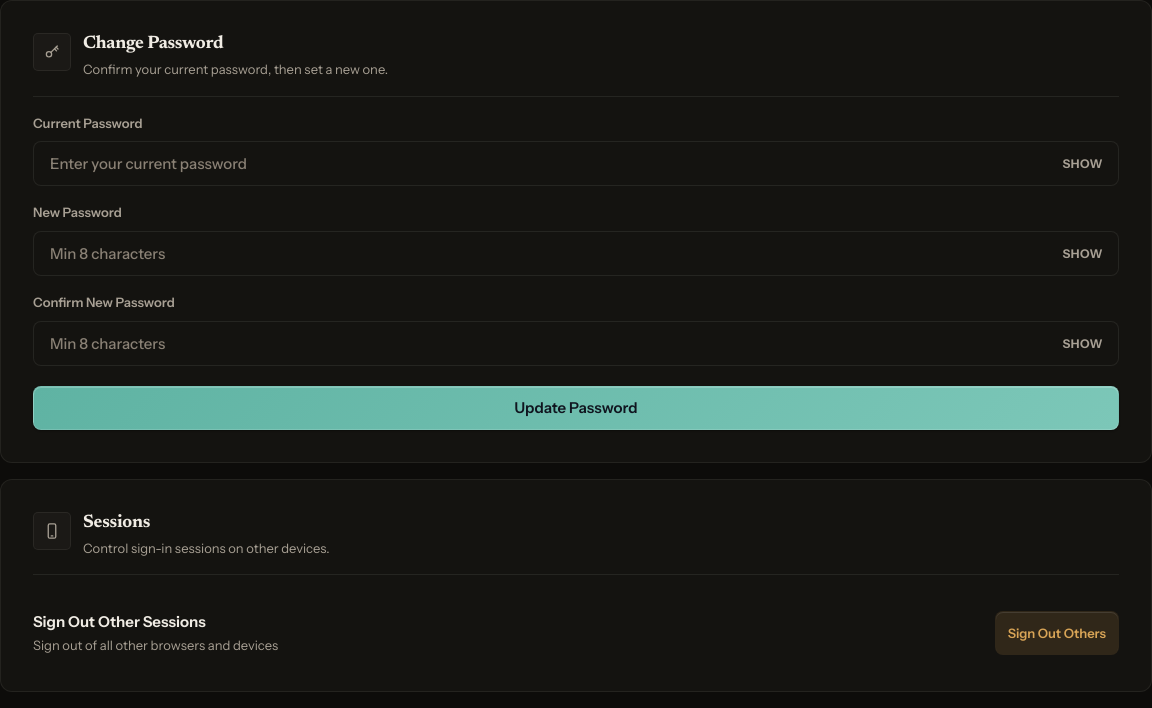
Test case: SecurityTab › rejects a mismatched confirmation
In the password field labelled "Current Password": (576, 164) [33,141,1119,186], type "current-pw"
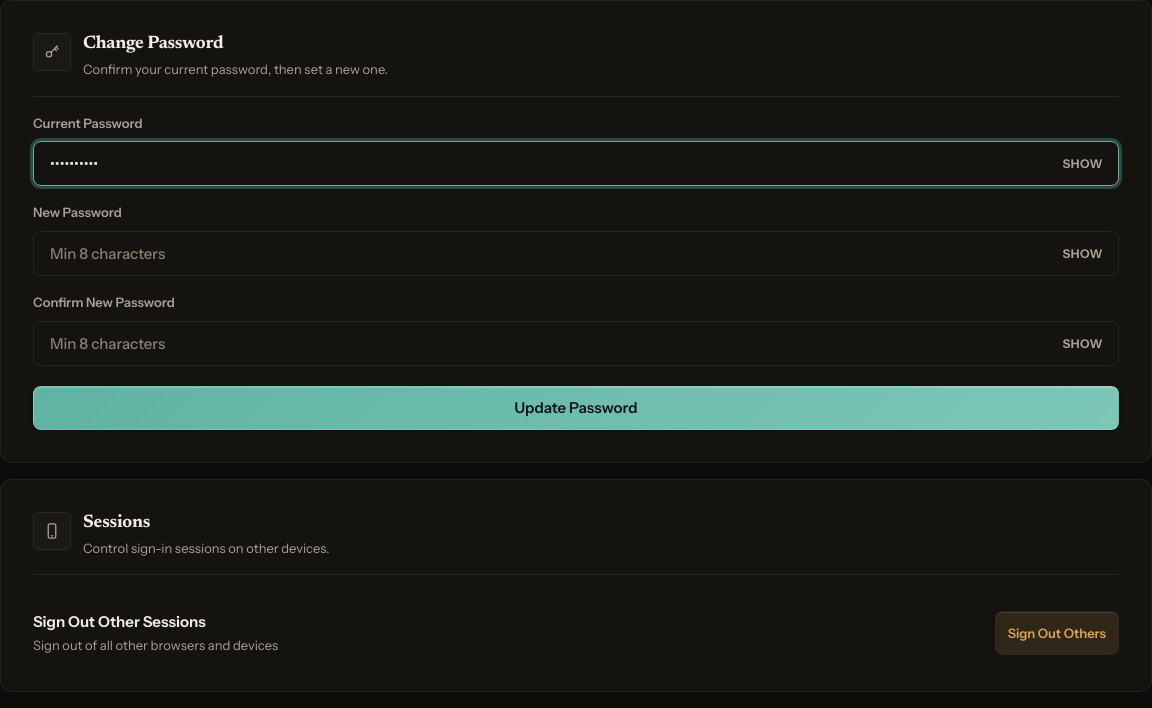
In the password field labelled "New Password": (576, 254) [33,231,1119,276], type "longenough1"
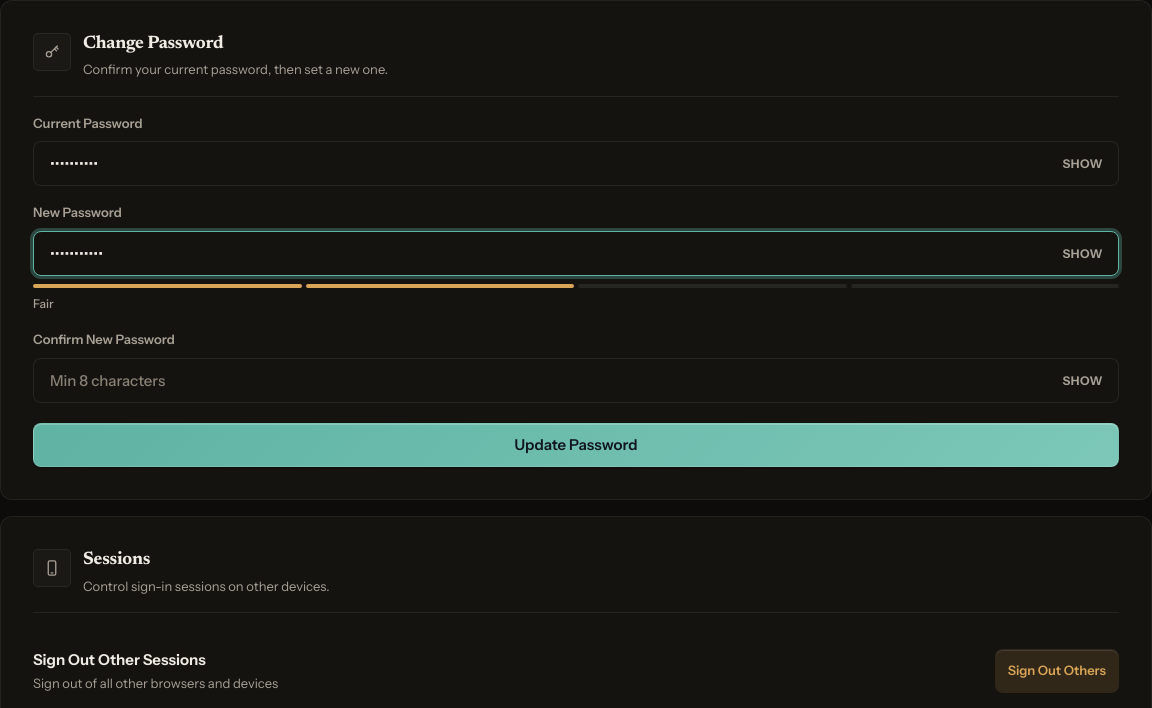
In the password field labelled "Confirm New Password": (576, 381) [33,358,1119,403], type "different1"
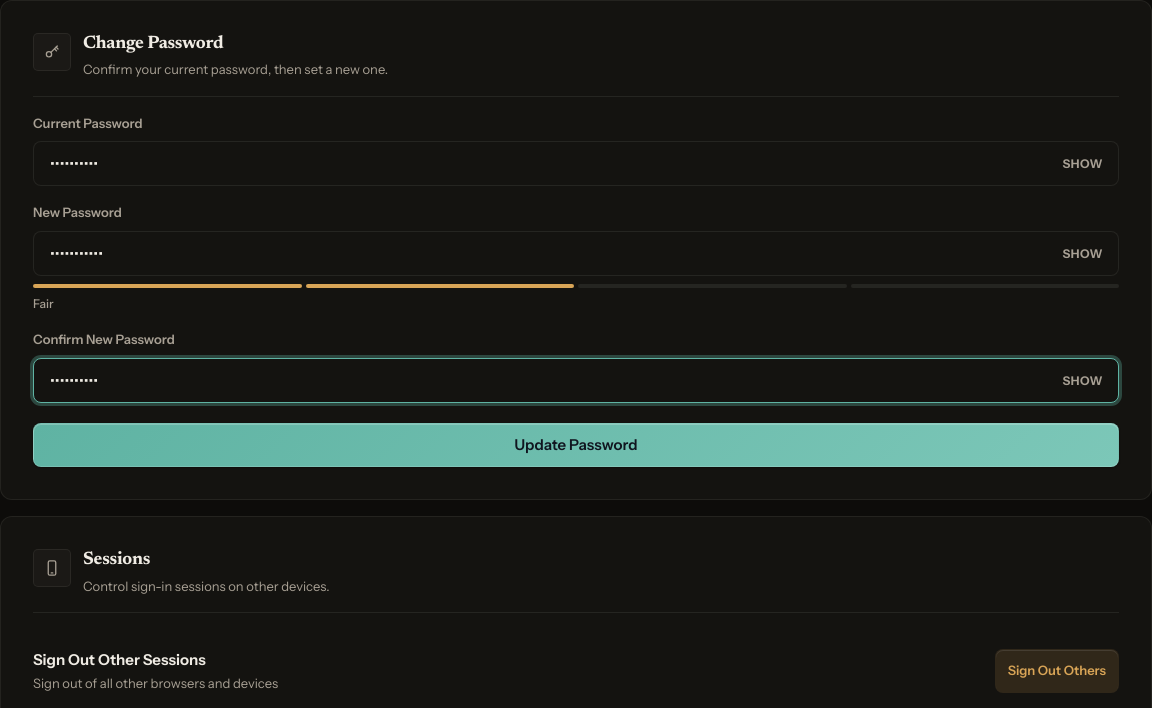
Click the button "Update Password": (576, 445) [33,423,1119,467]
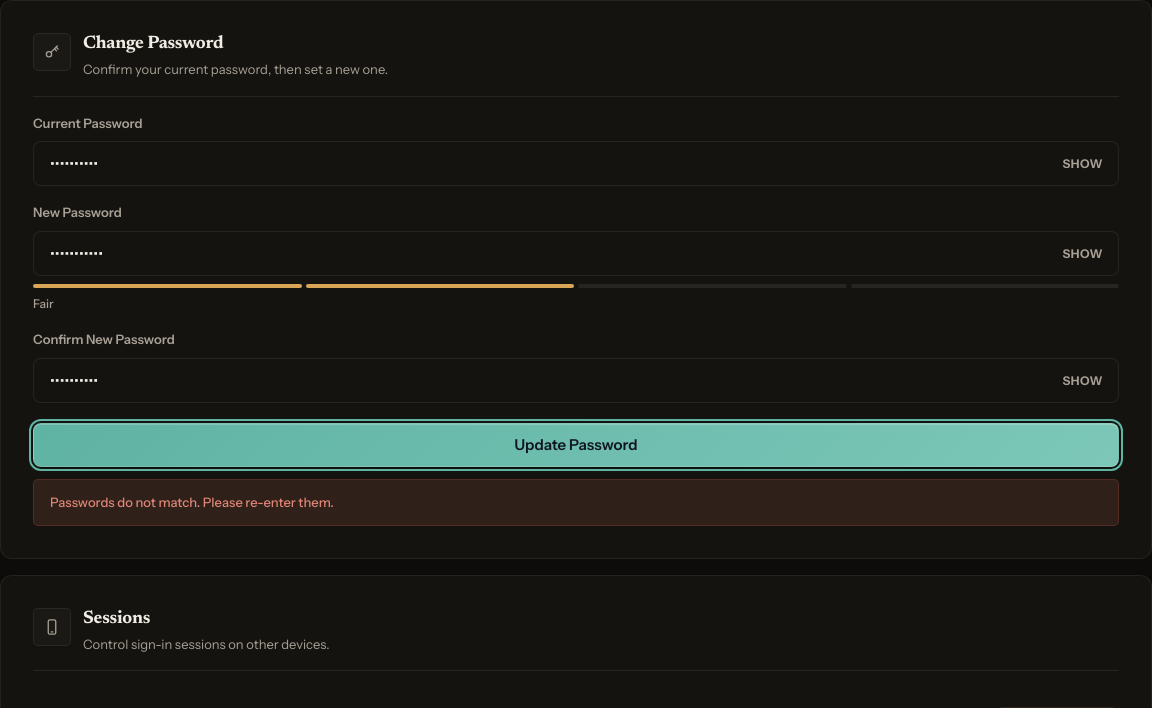
Expected: the message "Passwords do not match. Please re-enter them." is shown, [33,479,1119,526]
